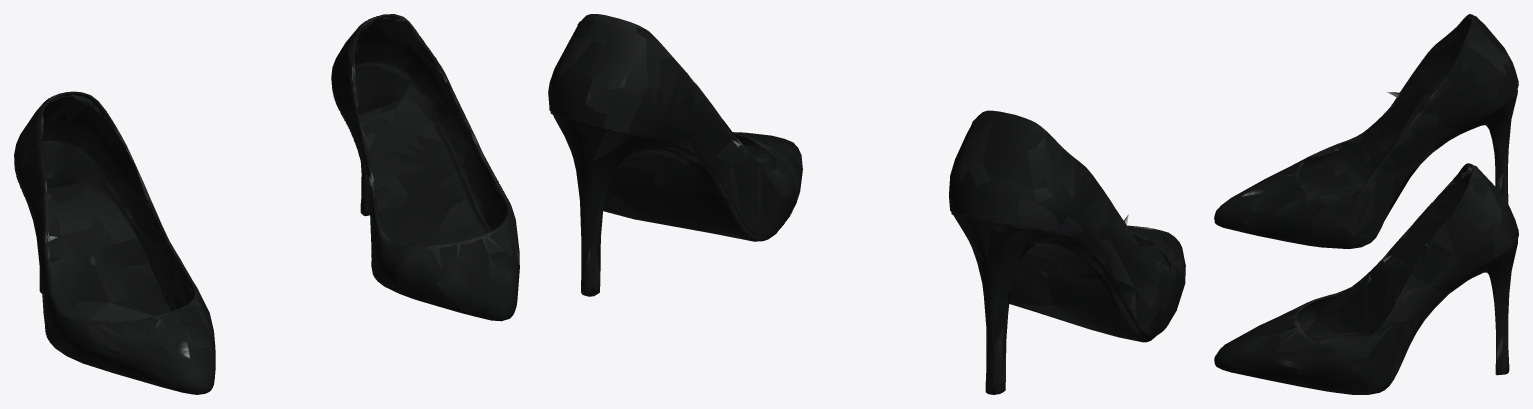
File: shoes_f_pumps.glb
3 renders of one model, left to right at view 1: azimuth 30°, elevation 25°; view 2: azimuth 150°, elevation 25°; view 3: azimuth 270°, elevation 25°, orthographic. The views are drawn at different scales.
Visible parts, largest first — view 1: f_pumps; view 2: f_pumps; view 3: f_pumps.
Boxes of the visible parts, left/top/right/bottom form: f_pumps: left=14, top=14, right=519, bottom=394; f_pumps: left=548, top=14, right=1185, bottom=394; f_pumps: left=1214, top=14, right=1518, bottom=394.
Bounding box in the file's own units: 0.4573 × 0.2005 × 0.2735.
1 material, 1 textured.
